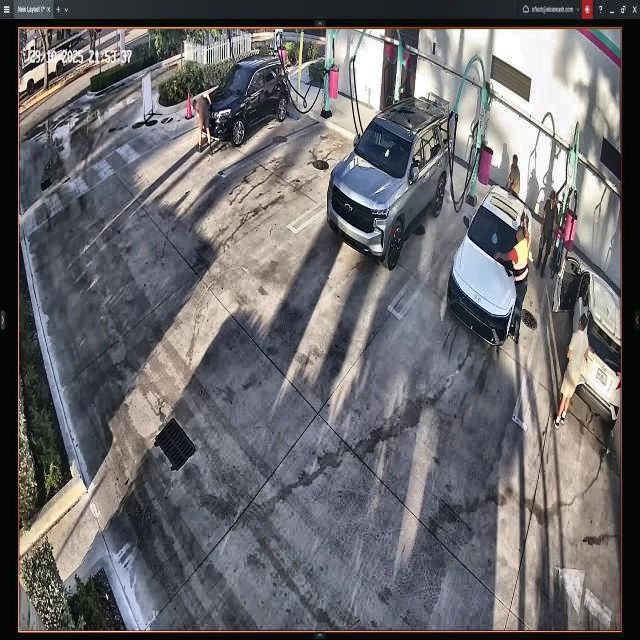Car: (328, 96, 448, 266), (450, 187, 532, 348), (203, 58, 289, 149)
